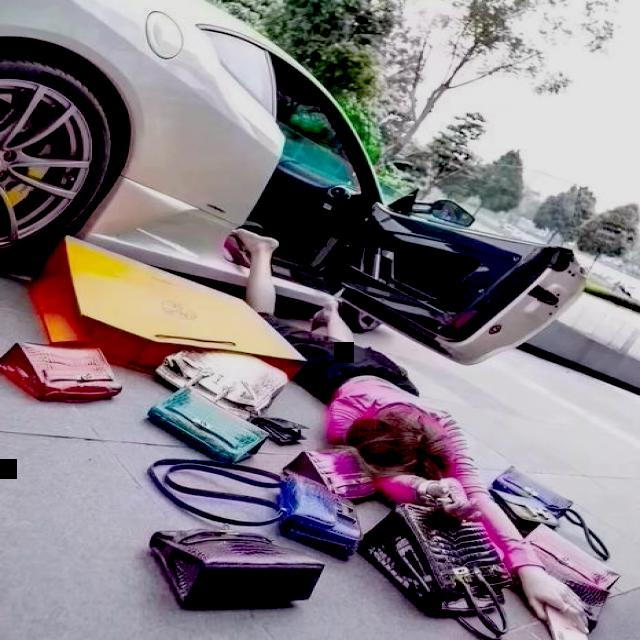Fall-Detected: (215, 242, 598, 630)
